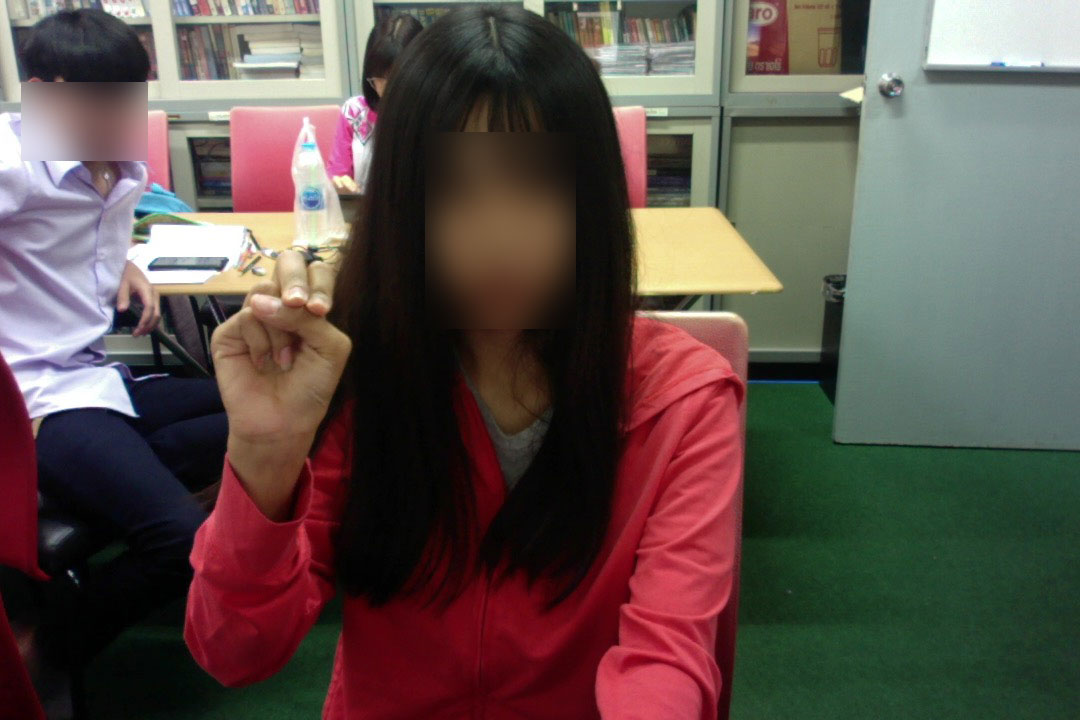nor: (208, 245, 359, 465)
